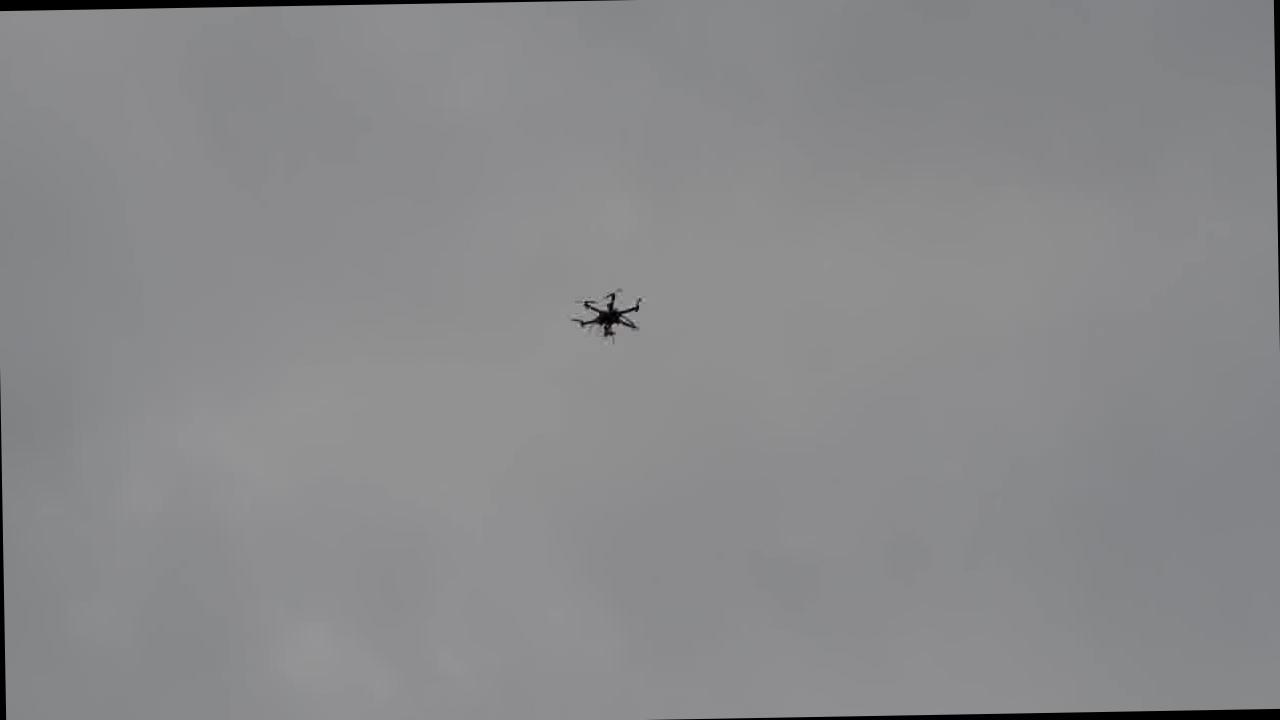drone: (570, 284, 646, 346)
